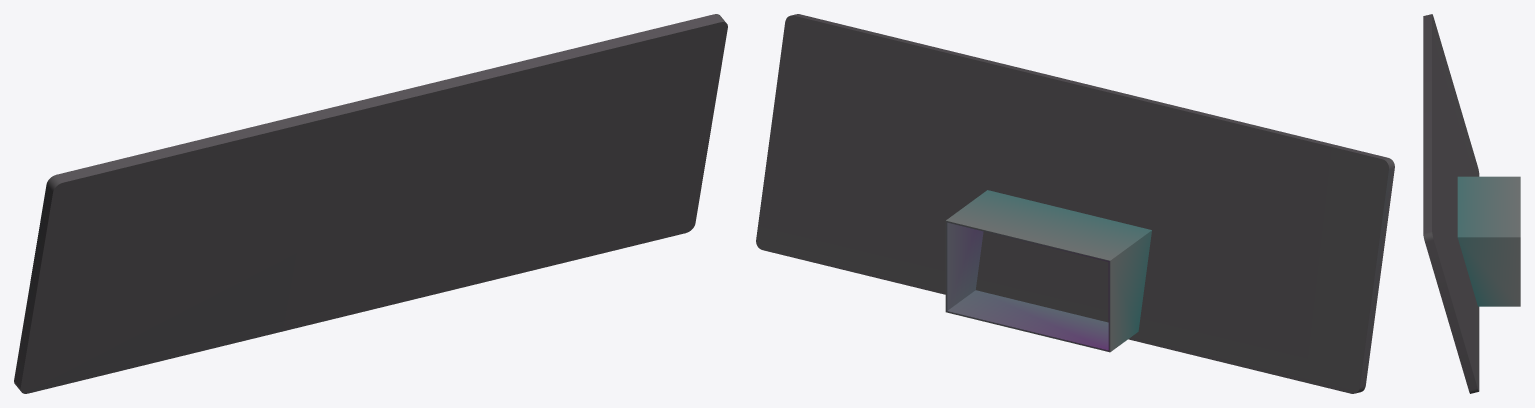
The picture shows the model from 3 angles, left to right: view 1: azimuth 30°, elevation 25°; view 2: azimuth 150°, elevation 25°; view 3: azimuth 270°, elevation 25°; orthographic projection. The views are drawn at different scales.
Visible parts, largest first — view 1: panel; view 2: panel, loop; view 3: panel, loop.
Part boxes in pixels (x1,y1,x2,y2): panel: [14, 14, 727, 393]; panel: [756, 14, 1394, 393]; loop: [945, 190, 1151, 352]; panel: [1423, 14, 1479, 393]; loop: [1457, 176, 1520, 306].
Bounding box in the file's own units: 0.4 × 0.1358 × 0.0741.
